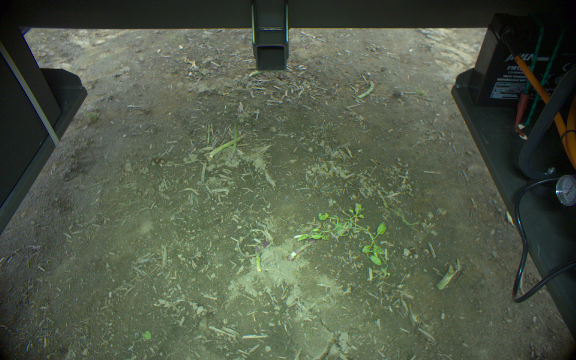aspa: (211, 133, 247, 159), (289, 238, 316, 261), (229, 118, 238, 160), (253, 246, 262, 272)
